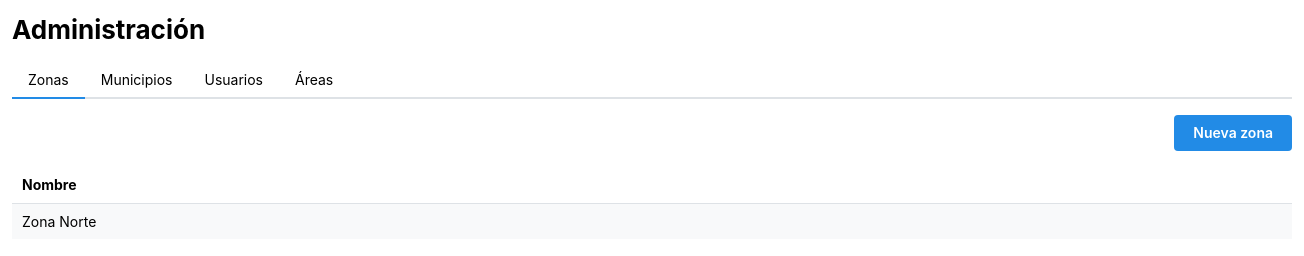
Test: AdminPage › renders the Áreas tab and shows AreasAdmin content instead of static list
Switch to Áreas tab
What coordinates should you click on to do the following:
click the tab "Áreas"
I would click on:
 (314, 81)
Its box is left=279, top=63, right=349, bottom=99.
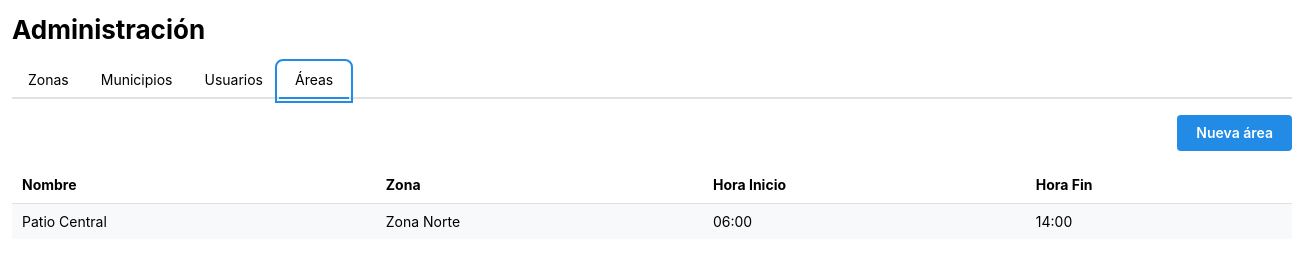
expect the text "Patio Central" is shown: met, box left=12, top=203, right=376, bottom=240
